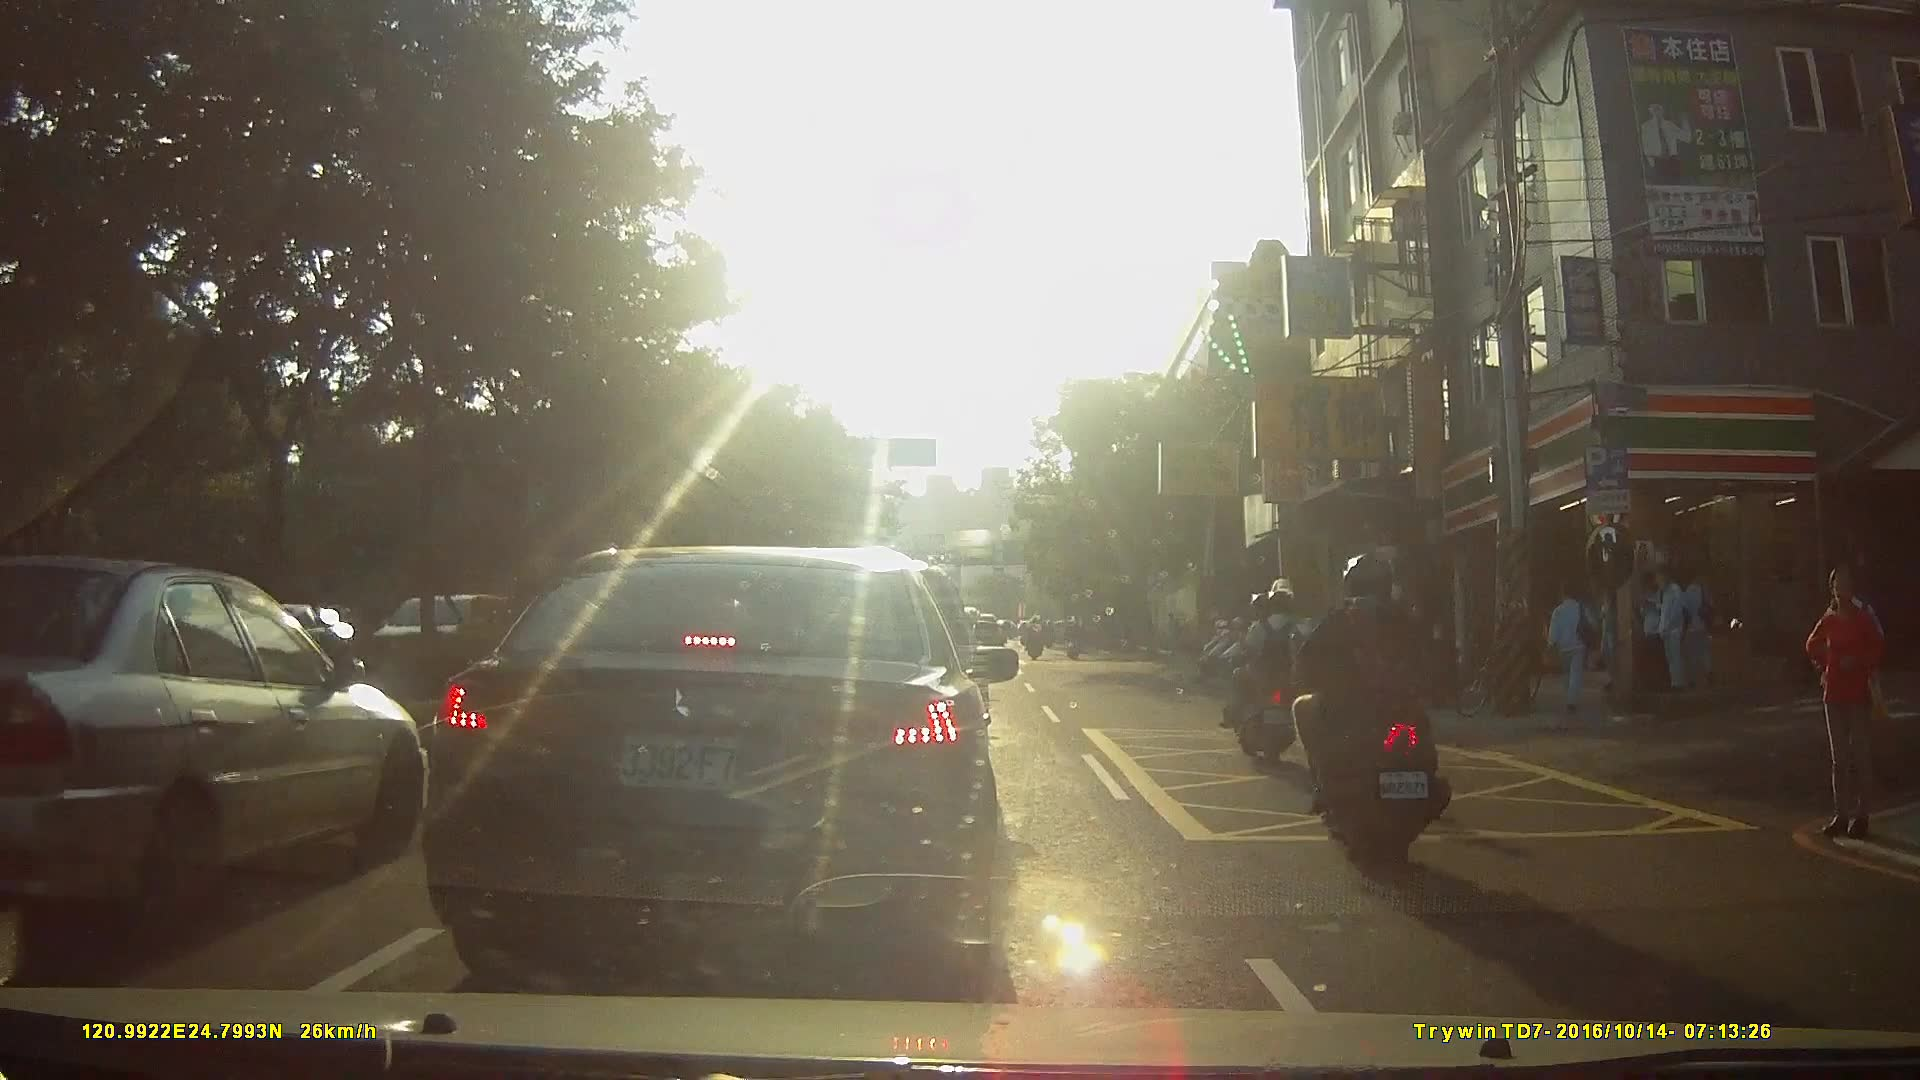pedestrian: (1806, 567, 1890, 844), (1547, 579, 1601, 715), (1645, 567, 1686, 696), (1679, 564, 1719, 690), (1634, 569, 1672, 702), (1604, 577, 1633, 709)
rider: (1294, 554, 1447, 868), (1217, 581, 1316, 766), (1024, 613, 1047, 664), (1063, 616, 1085, 664)
vehicle: (433, 538, 1039, 980), (10, 549, 443, 929)
